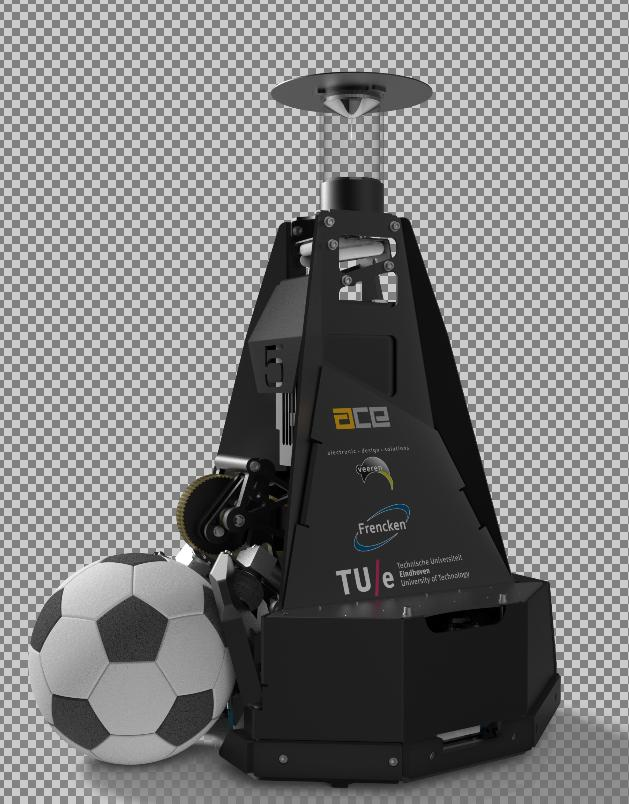robot: (160, 67, 567, 789)
